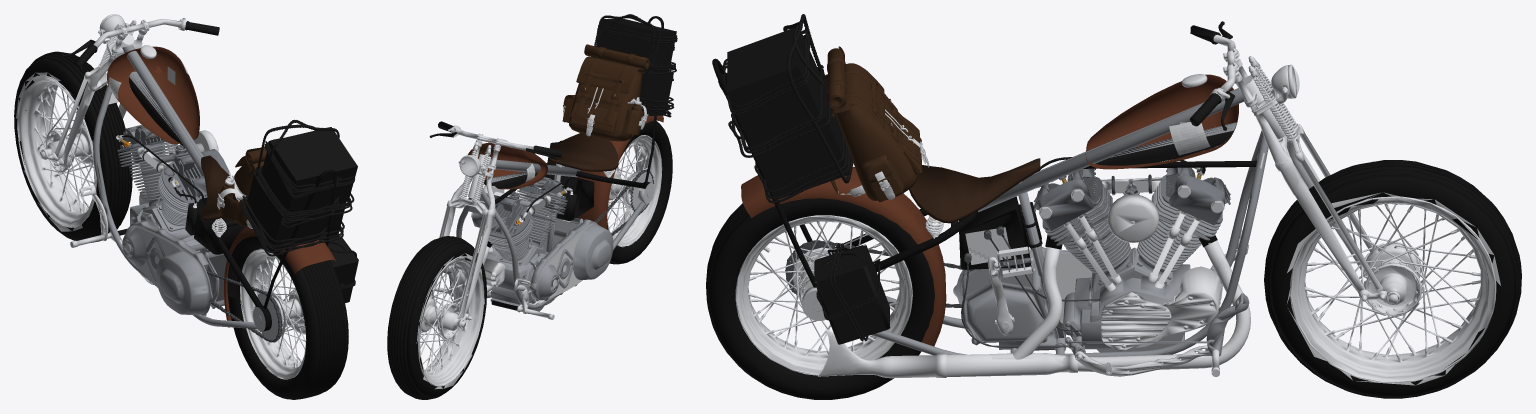
File: chopperlok.glb
3 views of the same model, side by side, from view 1: azimuth 30°, elevation 25°; view 2: azimuth 150°, elevation 25°; view 3: azimuth 270°, elevation 25° (orthographic). The views are drawn at different scales.
Visible parts, largest first — view 1: Object_44, Object_49, Object_50, Object_37, Object_19, Object_41, Object_10, Object_39, Object_40, Object_45, Object_9, Object_4 (+15 smaller); view 2: Object_50, Object_44, Object_4, Object_41, Object_37, Object_45, Object_19, Object_39, Object_40, Object_10, Object_49, Object_43 (+9 smaller); view 3: Object_41, Object_44, Object_50, Object_37, Object_49, Object_19, Object_39, Object_4, Object_45, Object_10, Object_40, Object_9 (+14 smaller).
Boxes of the visible parts, x1,y1,x2,y2 form: Object_44: (70, 34, 305, 334); Object_49: (227, 236, 348, 399); Object_50: (14, 21, 229, 242); Object_37: (17, 75, 96, 227); Object_19: (107, 46, 336, 327); Object_41: (79, 124, 337, 308); Object_10: (261, 127, 357, 212); Object_39: (240, 248, 306, 379); Object_40: (111, 125, 279, 340); Object_45: (47, 18, 185, 165); Object_9: (246, 175, 346, 251); Object_4: (216, 147, 266, 228); Object_50: (387, 121, 618, 399); Object_44: (435, 154, 651, 319); Object_4: (562, 44, 649, 141); Object_41: (443, 16, 663, 313); Object_37: (418, 256, 484, 386); Object_45: (429, 128, 533, 322); Object_19: (468, 115, 663, 229); Object_39: (607, 135, 662, 247); Object_40: (454, 171, 652, 305); Object_10: (596, 18, 676, 71); Object_49: (607, 121, 672, 264); Object_43: (468, 183, 654, 319); Object_41: (712, 58, 1249, 376); Object_44: (802, 79, 1287, 378); Object_50: (909, 25, 1521, 398); Object_37: (1290, 196, 1496, 383); Object_49: (706, 198, 934, 399); Object_19: (741, 74, 1238, 346); Object_39: (735, 215, 912, 375); Object_4: (827, 46, 929, 202); Object_45: (1190, 32, 1387, 301); Object_10: (727, 28, 822, 145); Object_40: (794, 169, 1230, 374); Object_9: (751, 78, 850, 200).
Bounding box in the file's own units: 0.8146 × 1.39 × 2.78.
